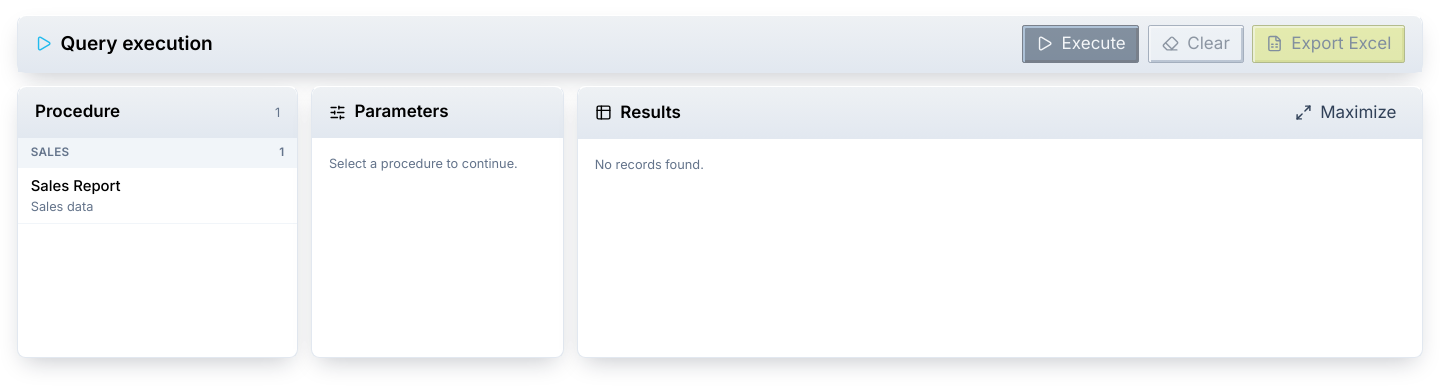
shows the execute mutation's error message
This screenshot has width=1440, height=388.
Click the option "Sales Report Sales data" at (76, 186), box [18, 168, 297, 224]
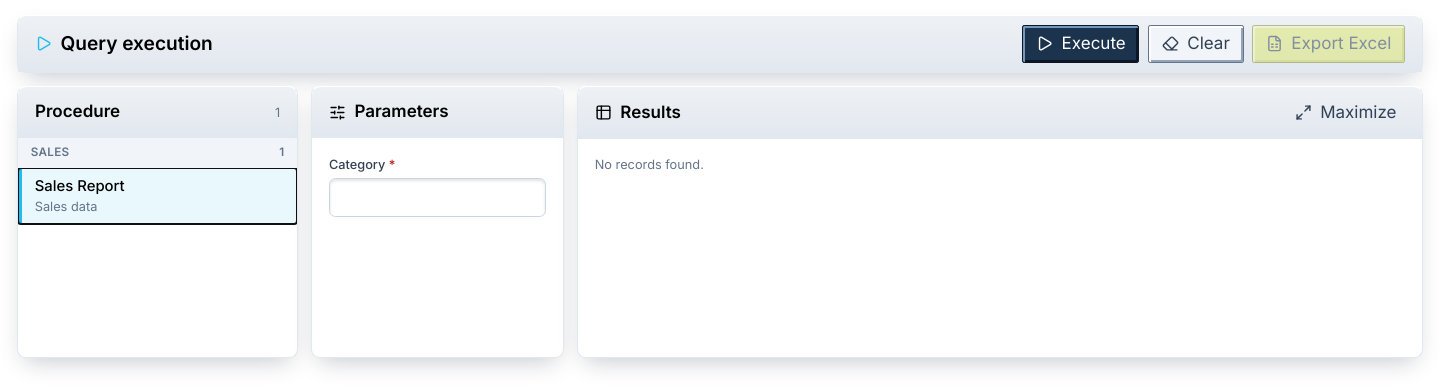
Type "Widgets" into the field labelled "Category" at (437, 198), box [329, 178, 546, 217]
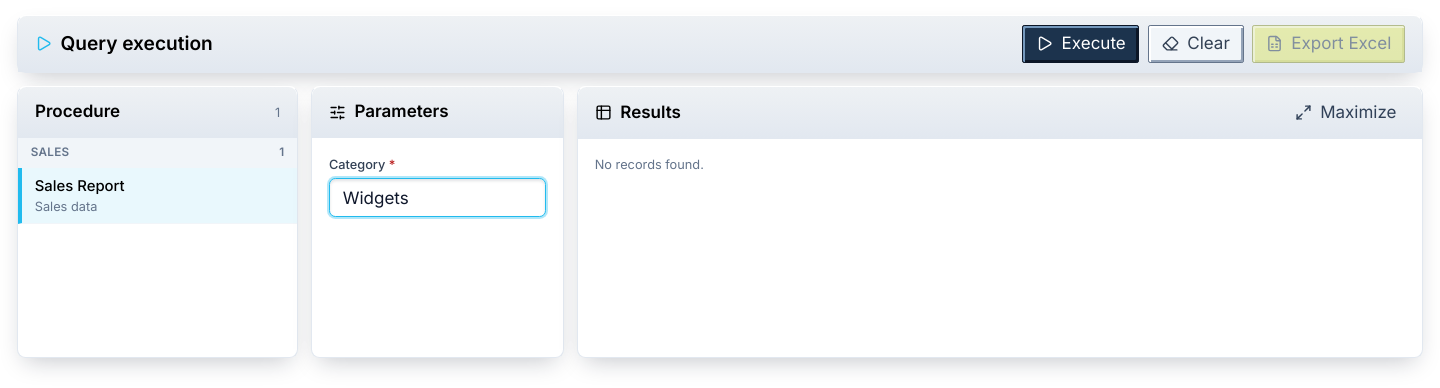
Click the button "Execute" at (1081, 44), box [1022, 24, 1140, 63]
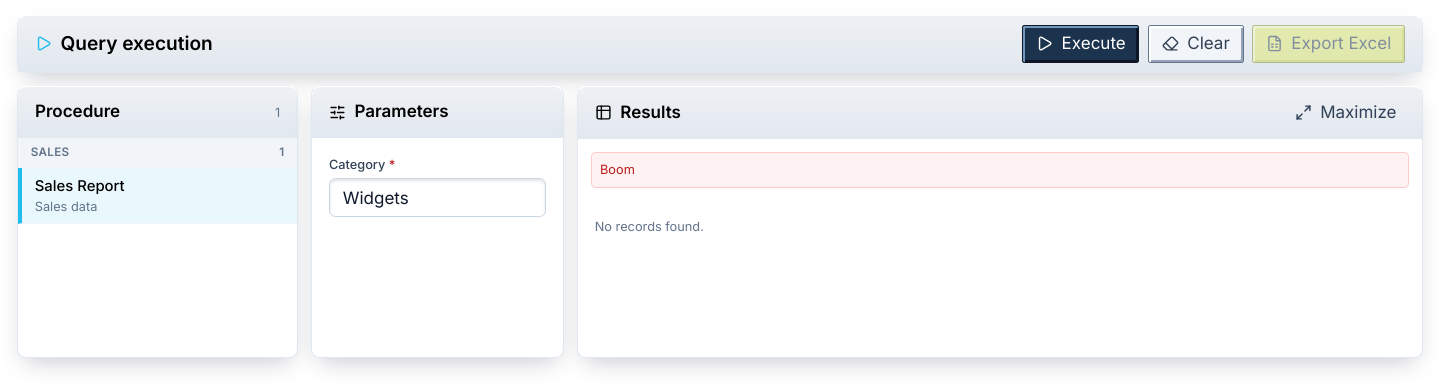
Result: the text "Boom" is shown at [590, 152, 1409, 188]
